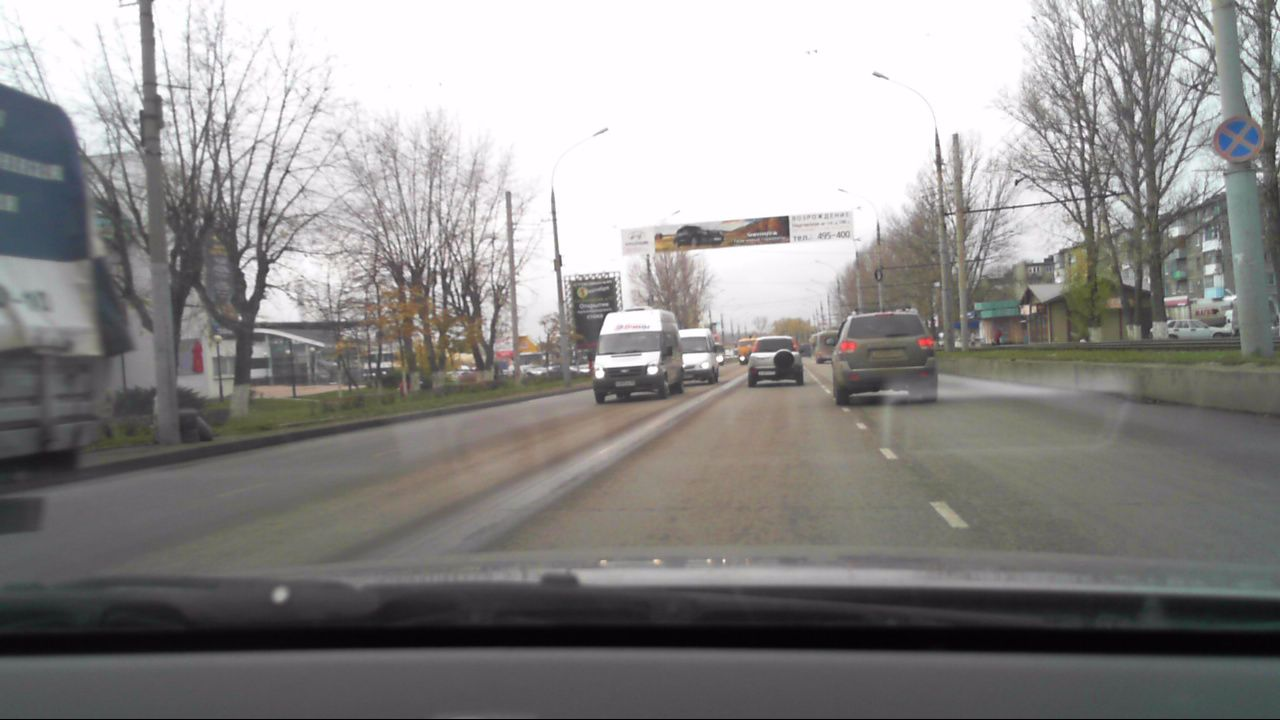No Parking: (1210, 115, 1264, 164)
